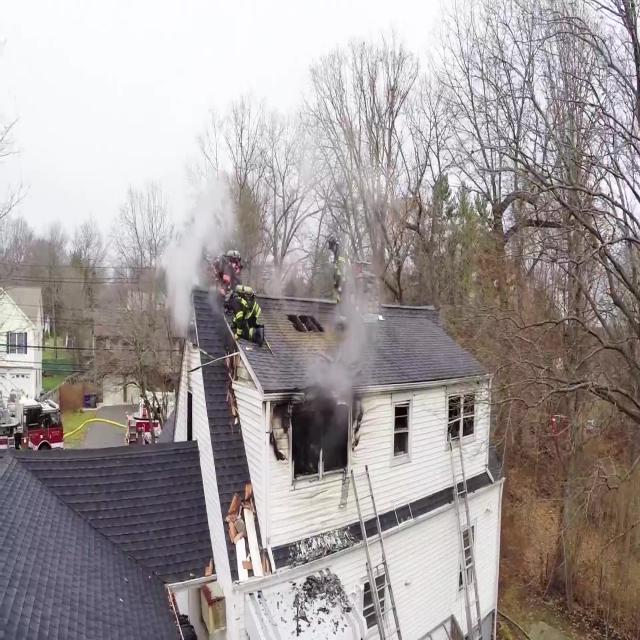Smoke: (164, 164, 220, 338), (316, 295, 379, 416)
